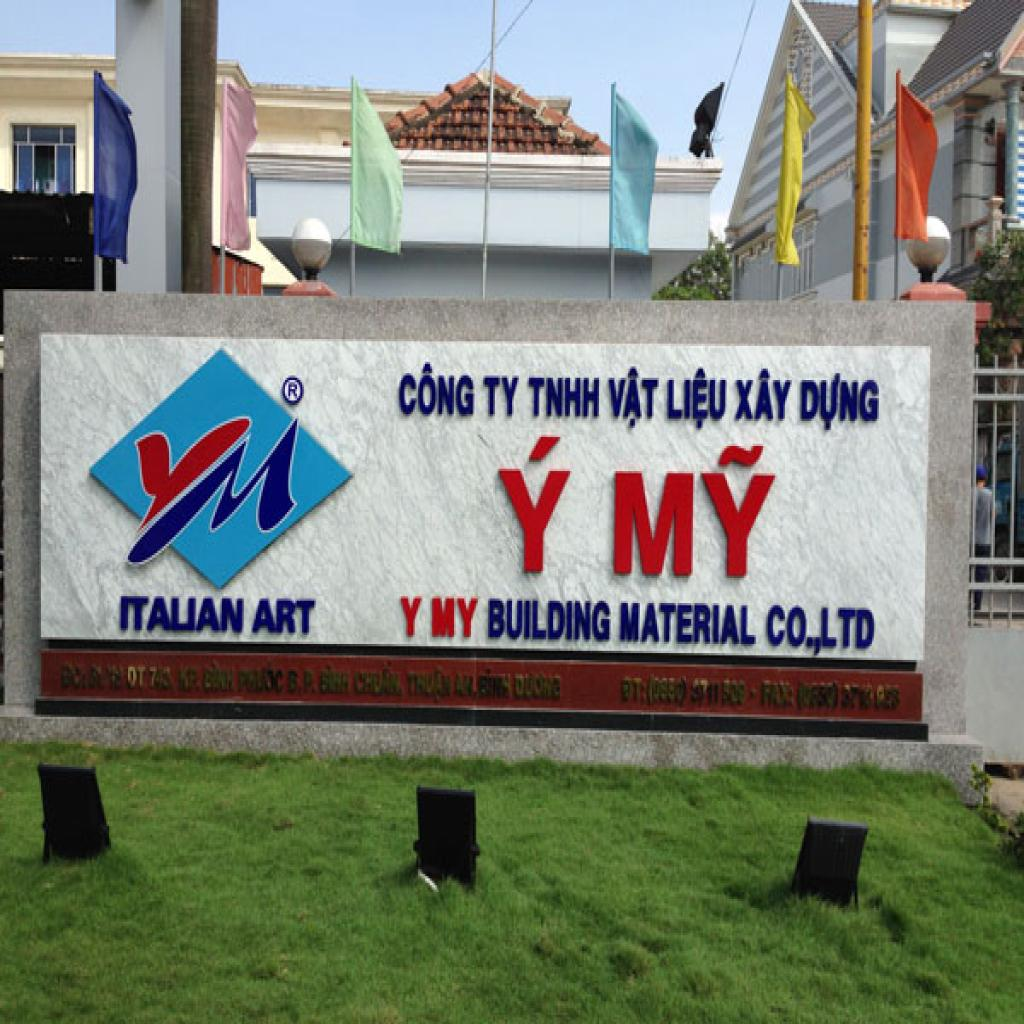text: (609, 439, 794, 585), (486, 428, 586, 578), (763, 596, 881, 660), (618, 598, 758, 651), (486, 596, 614, 651), (111, 594, 249, 639), (797, 371, 886, 435), (396, 357, 478, 421), (662, 364, 729, 437), (729, 364, 797, 428), (602, 364, 664, 432), (526, 369, 602, 423), (249, 594, 321, 639), (430, 594, 483, 642), (480, 371, 524, 423), (352, 662, 406, 701), (404, 666, 454, 708), (394, 594, 427, 644), (514, 671, 565, 703), (236, 664, 286, 696), (200, 660, 239, 694), (761, 678, 797, 712), (278, 376, 307, 410), (454, 671, 480, 703), (750, 690, 760, 698)
